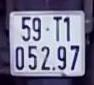0: (13, 45, 25, 71)
1: (63, 15, 72, 42)
2: (39, 44, 51, 71)
5: (27, 44, 40, 71), (20, 15, 31, 43)
7: (69, 44, 80, 71)
9: (55, 44, 68, 71), (32, 15, 42, 43)
T: (51, 14, 63, 43)
